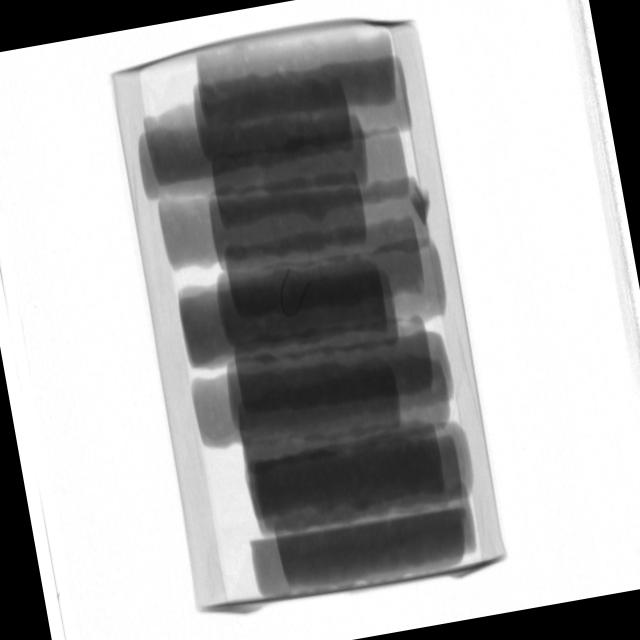ym: (275, 267, 315, 318), (411, 185, 435, 226)
